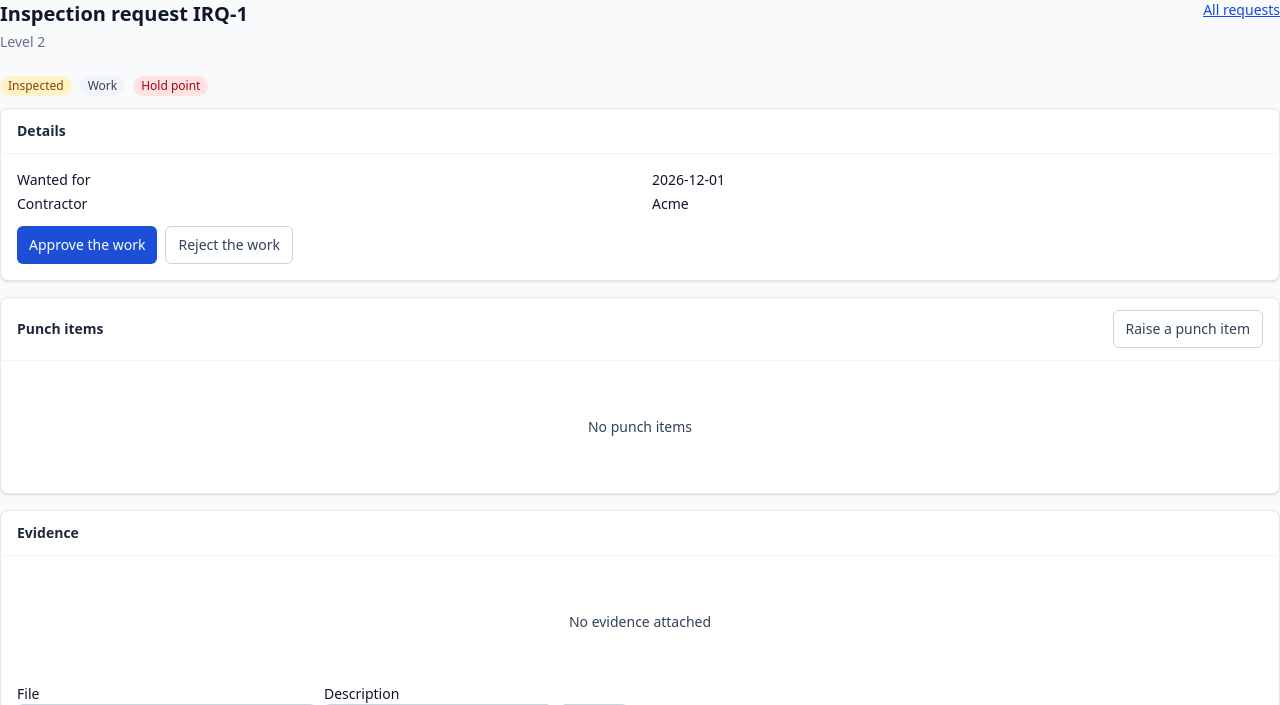
Test: RequestPage › shows the server's refusal when approving a failed inspection or as the inspector
Step 1. Click the button "Approve the work" → x=87, y=245, box [17,226,158,264]
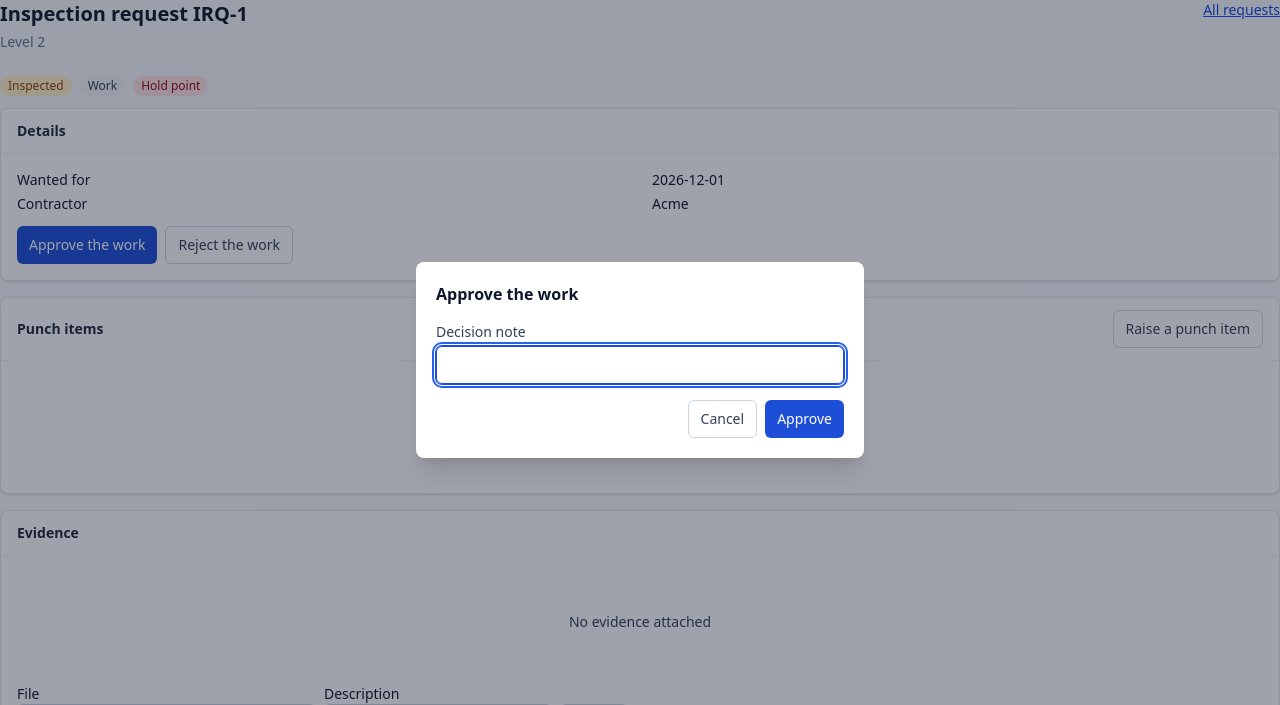
Step 2. Type "ok" into the field labelled "Decision note" → x=640, y=365, box [436,346,844,384]
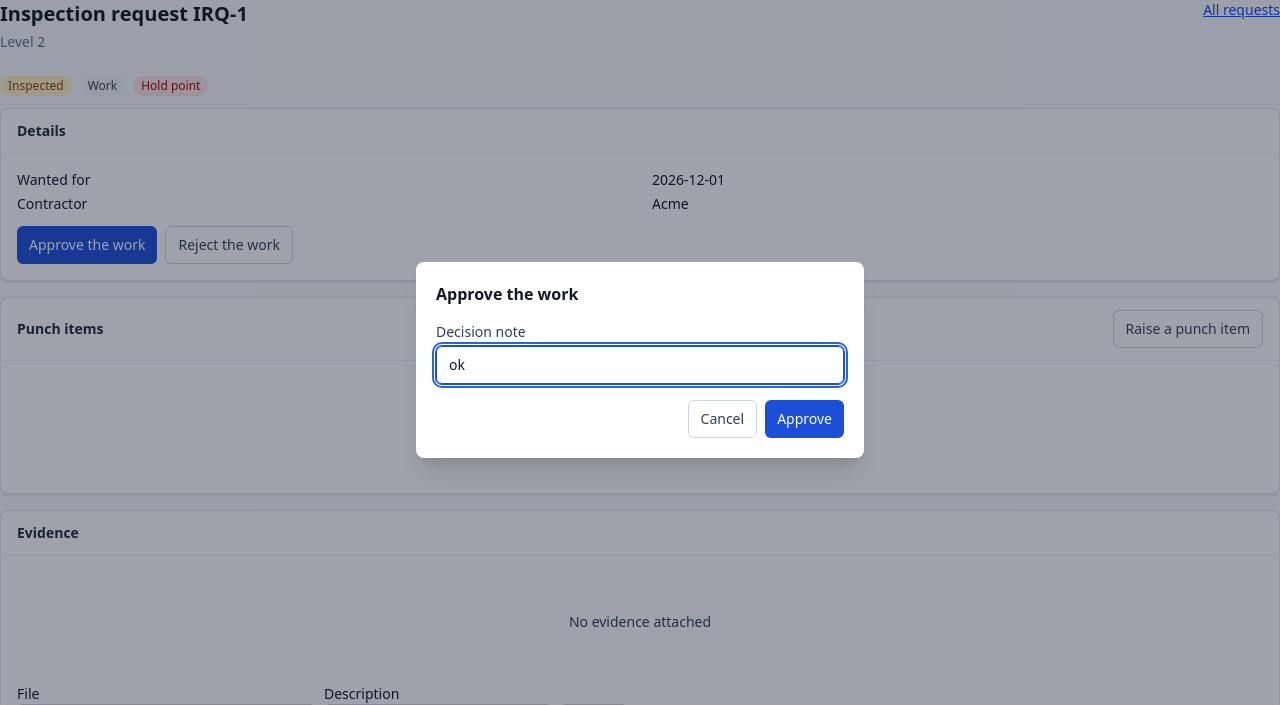
Step 3. Click the button "Approve" → x=805, y=419, box [765,400,844,438]
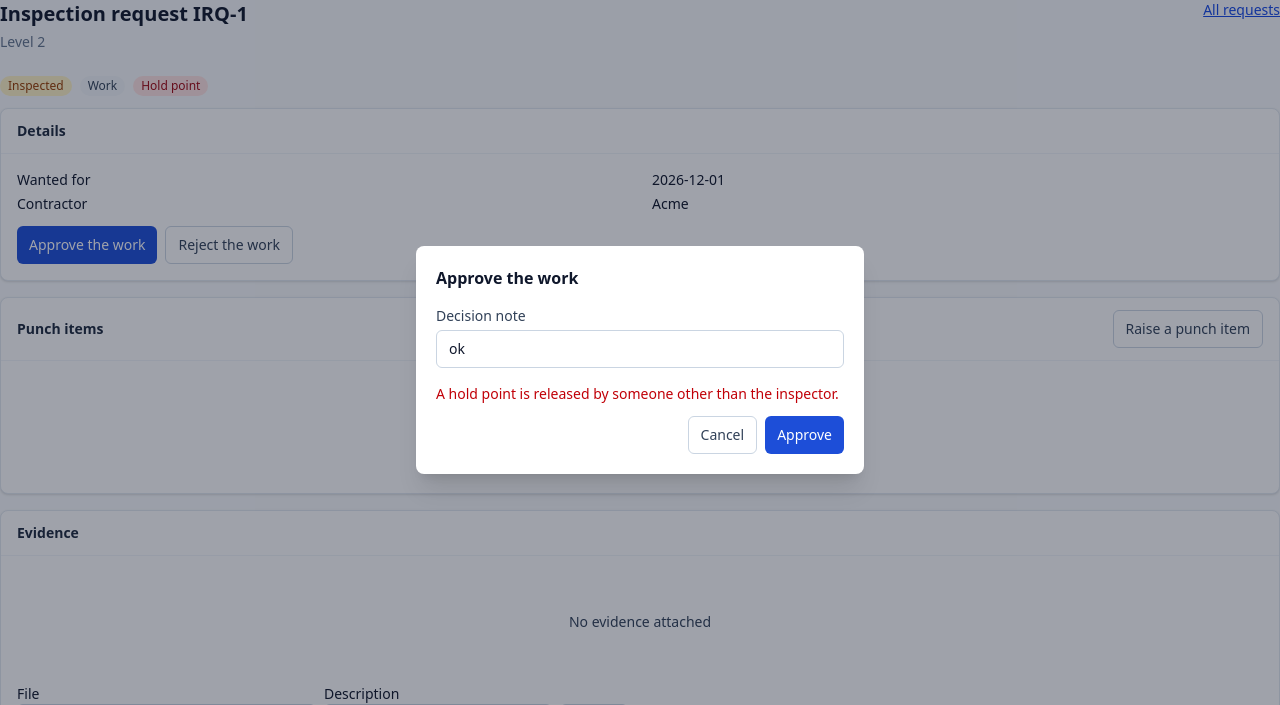
Expected: the text "A hold point is released by someone other than the inspector." is shown, [436,384,844,404]
